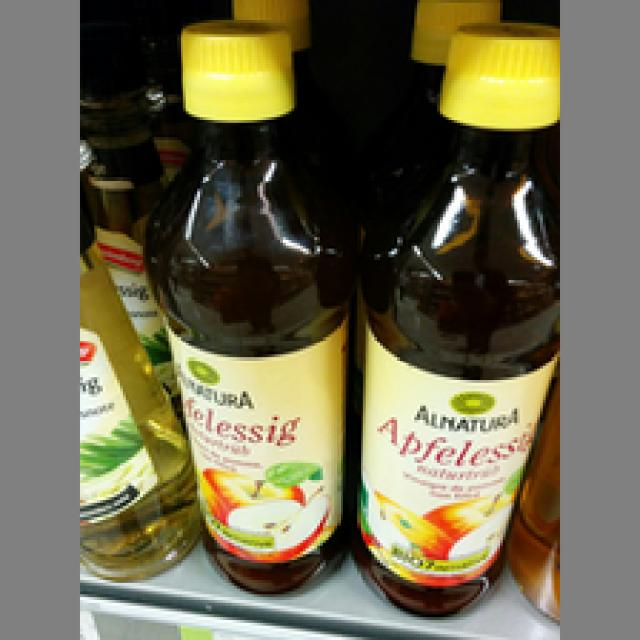groceries: (140, 17, 354, 592), (349, 20, 554, 617)
